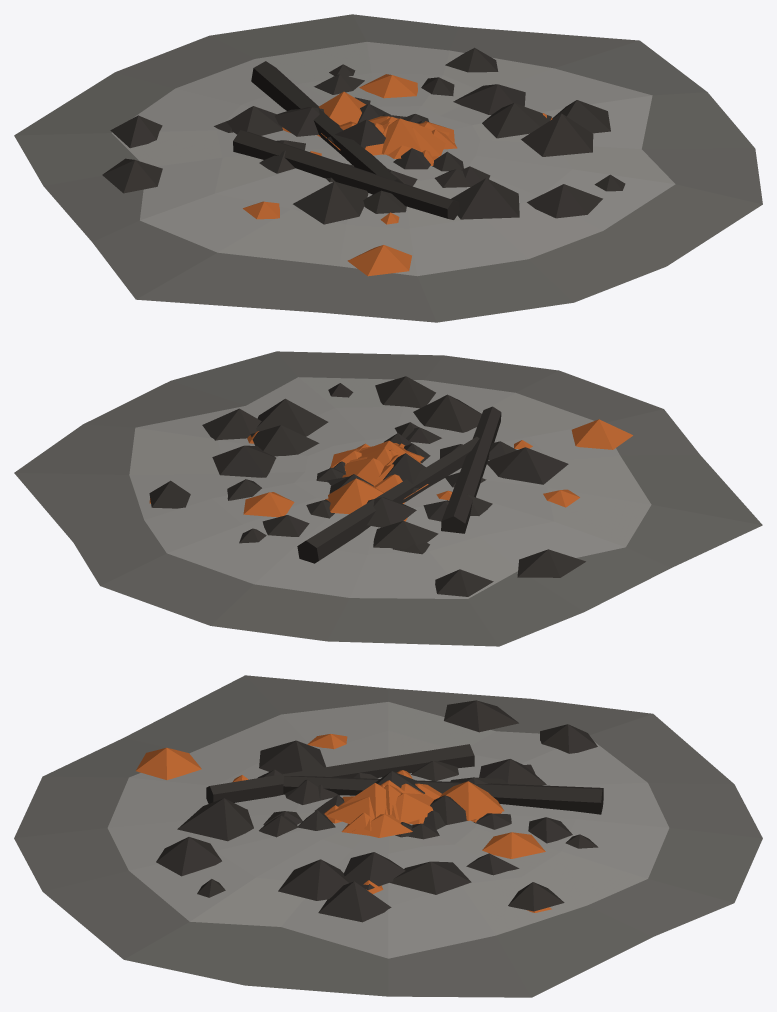
The model's file is ember-bed.glb.
3 views of the same model, one above another, from view 1: azimuth 30°, elevation 25°; view 2: azimuth 150°, elevation 25°; view 3: azimuth 270°, elevation 25° (orthographic). The views are drawn at different scales.
Visible parts, largest first — view 1: prop_ember-bed_LOD0; view 2: prop_ember-bed_LOD0; view 3: prop_ember-bed_LOD0.
Part boxes in pixels (left/top/right/bottom): prop_ember-bed_LOD0: left=14, top=14, right=762, bottom=322; prop_ember-bed_LOD0: left=14, top=351, right=762, bottom=646; prop_ember-bed_LOD0: left=14, top=675, right=762, bottom=997.
Bounding box in the file's own units: 3.06 × 0.2503 × 3.
